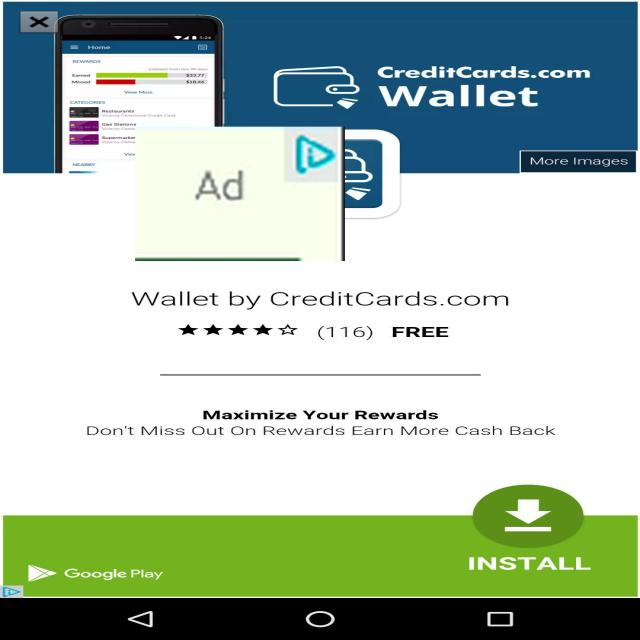sneaking: (135, 127, 345, 261)
